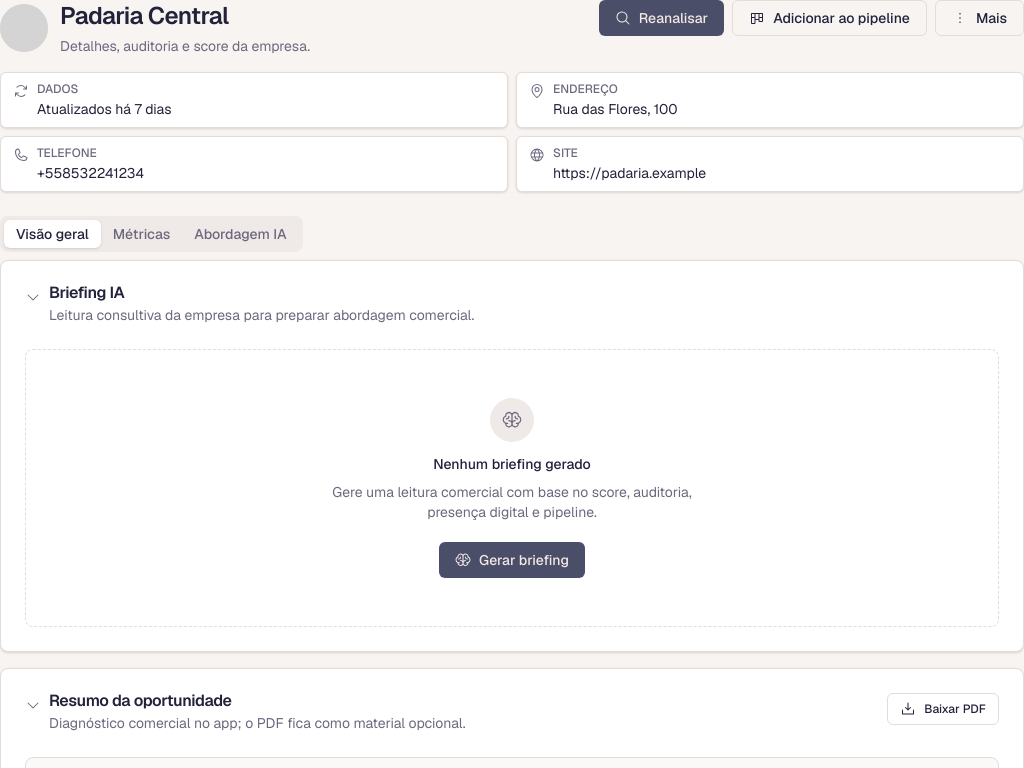
Test case: BusinessDetailView › shows digital presence in the overview tab and audit/score in the metrics tab
Expected: the heading "Padaria Central" is shown, [60,0,228,31]
Expected: the heading "Briefing IA" is shown, [49,282,124,303]
Click the tab "Métricas". click: click(142, 234)
box: [101,220,182,248]
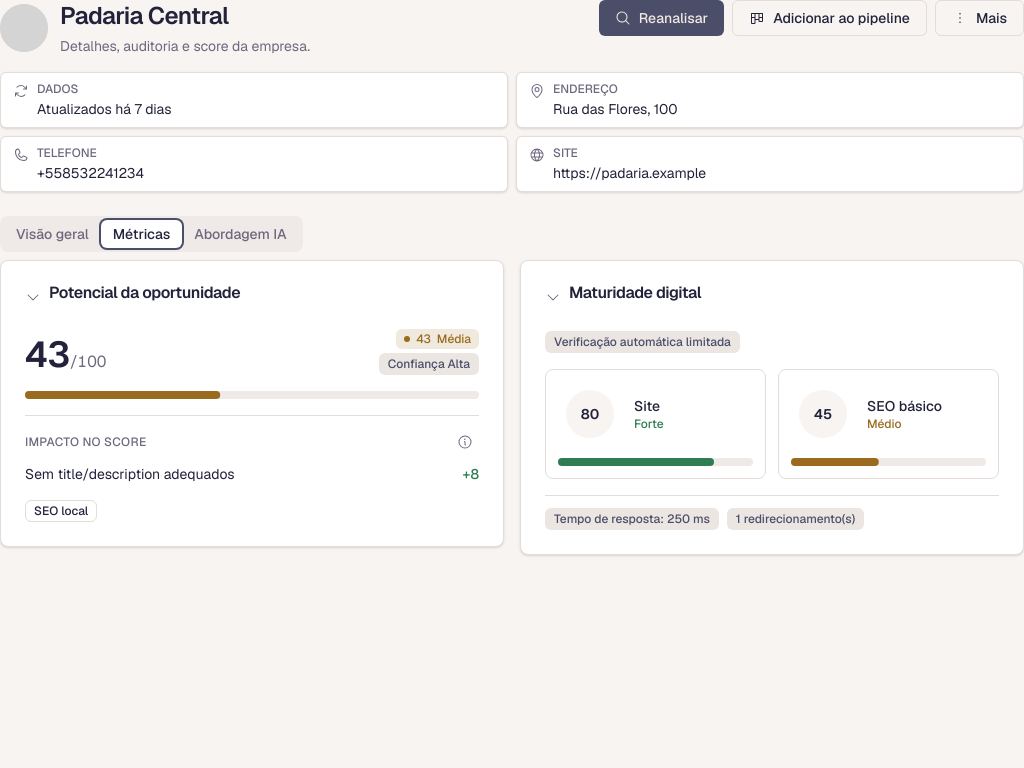
Now the heading "Potencial da oportunidade" is shown, box [49,285,240,301]
Now the progress indicator named "score 43 de 100" is shown, box [25,391,479,399]
Now the heading "Maturidade digital" is shown, box [569,285,701,301]
